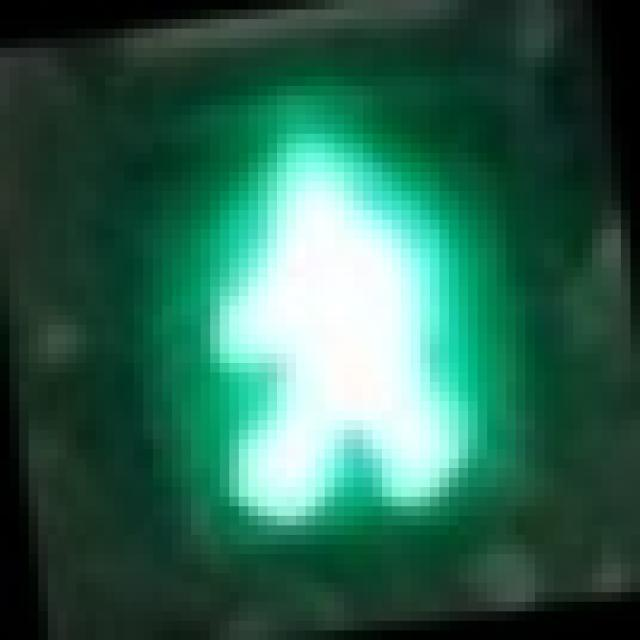geen-crossing: (124, 77, 497, 544)
